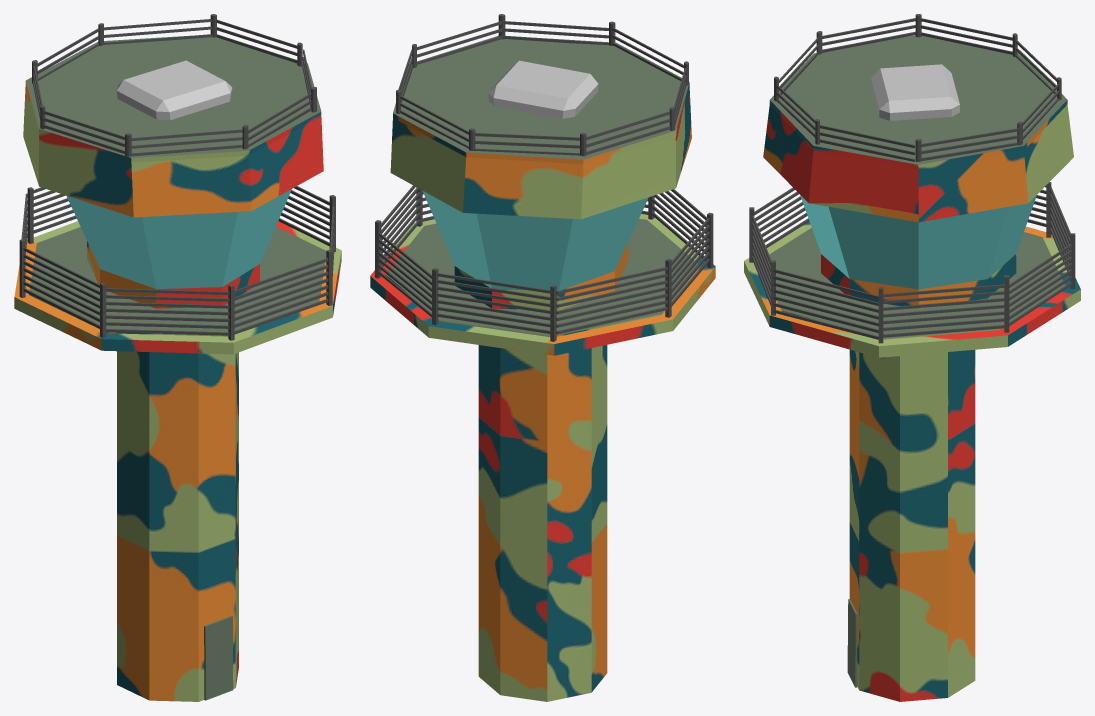
The model's file is tower_ver2.fbx.
3 renders of one model, left to right at view 1: azimuth 30°, elevation 25°; view 2: azimuth 150°, elevation 25°; view 3: azimuth 270°, elevation 25°, orthographic.
Parts seen in each view (by area): view 1: Cylinder, Cylinder.001, Cube.020, Cube.006, Cube.007, Cube.004, Plane, Cube.005, Cube.013, Cube.012, Cube.015, Cube.014 (+5 smaller); view 2: Cylinder, Cylinder.001, Cube.020, Cube.008, Cube.011, Cube.009, Cube.004, Cube.006, Cube.005, Cube.018, Cube.019, Cube.016 (+5 smaller); view 3: Cylinder, Cylinder.001, Cube.020, Cube.005, Cube.010, Cube.009, Cube.006, Cube.015, Cube.016, Cube.014, Cube.017, Cube.007 (+6 smaller).
Part boxes in pixels (box(x1,y1,x2,y2)): Cylinder: box(14, 221, 341, 701); Cylinder.001: box(23, 35, 323, 308); Cube.020: box(116, 60, 232, 120); Cube.006: box(106, 288, 229, 335); Cube.007: box(234, 258, 328, 334); Cube.004: box(23, 247, 99, 328); Plane: box(204, 616, 233, 700); Cube.005: box(278, 186, 330, 246); Cube.013: box(131, 129, 242, 156); Cube.012: box(103, 19, 212, 44); Cube.015: box(216, 19, 297, 63); Cube.014: box(43, 111, 124, 153); Cylinder: box(370, 214, 715, 701); Cylinder.001: box(390, 35, 691, 310); Cube.020: box(488, 60, 598, 118); Cube.008: box(437, 273, 552, 334); Cube.011: box(556, 267, 667, 334); Cube.009: box(379, 232, 431, 317); Cube.004: box(671, 218, 709, 306); Cube.006: box(652, 189, 706, 260); Cube.005: box(381, 185, 420, 266); Cube.018: box(502, 21, 608, 44); Cube.019: box(474, 133, 580, 155); Cube.016: box(417, 21, 502, 64); Cylinder: box(744, 221, 1080, 701); Cylinder.001: box(763, 35, 1073, 308); Cube.020: box(871, 64, 959, 120); Cube.005: box(883, 284, 1004, 337); Cube.010: box(773, 269, 878, 339); Cube.009: box(1009, 244, 1072, 325); Cube.006: box(754, 187, 809, 247); Cube.015: box(920, 128, 1022, 161); Cube.016: box(820, 125, 914, 161); Cube.014: box(822, 18, 915, 52); Cube.017: box(920, 18, 1012, 54); Cube.007: box(752, 216, 771, 305).
Bounding box in the file's own units: 525 × 1029 × 525.
